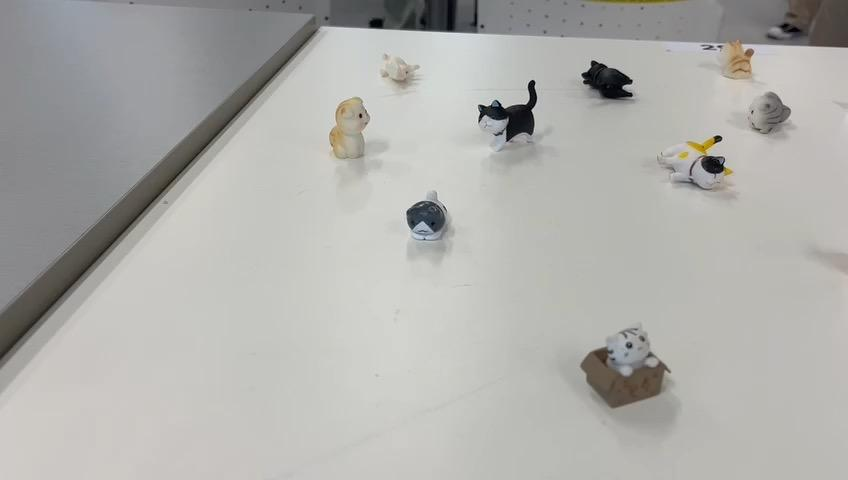pet: (577, 319, 673, 412), (655, 131, 736, 191), (476, 78, 539, 153), (325, 91, 374, 161), (404, 185, 454, 245), (581, 56, 636, 102), (748, 89, 793, 137), (715, 39, 757, 84), (377, 49, 422, 84)
